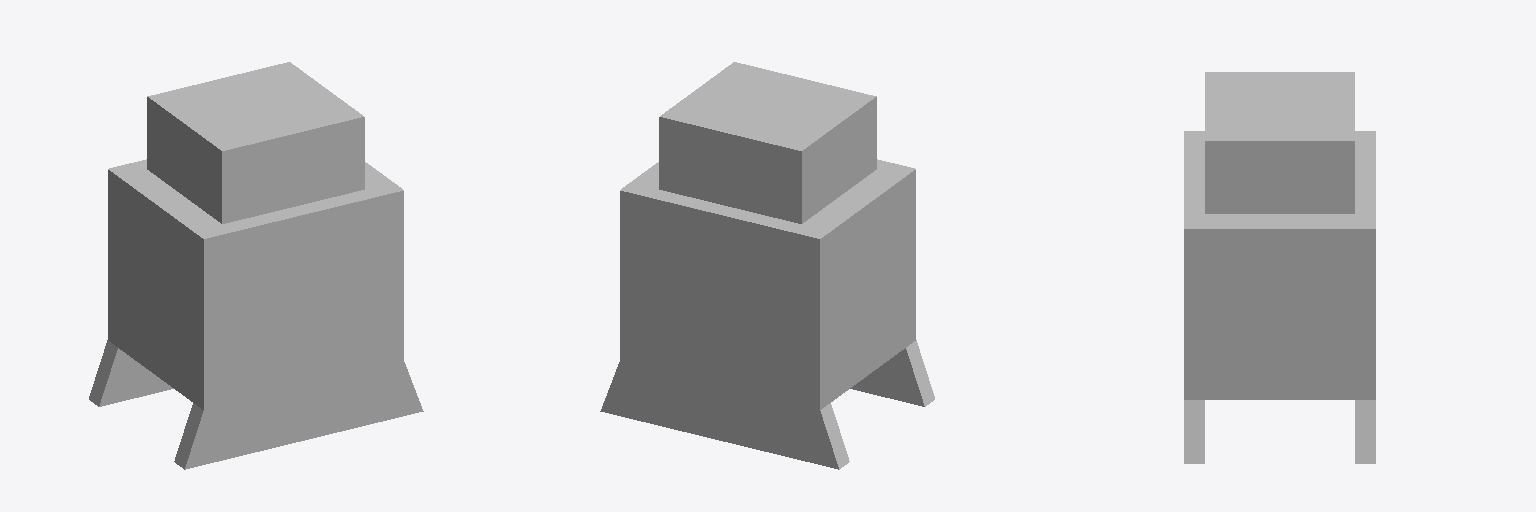
The model's file is stand-collider.obj.
The picture shows the model from 3 angles: view 1: azimuth 30°, elevation 25°; view 2: azimuth 150°, elevation 25°; view 3: azimuth 270°, elevation 25°; orthographic projection.
Visible parts, largest first — view 1: Stand_Collider; view 2: Stand_Collider; view 3: Stand_Collider.
Part boxes in pixels (left/top/right/bottom): Stand_Collider: left=89, top=62, right=423, bottom=469; Stand_Collider: left=600, top=62, right=934, bottom=469; Stand_Collider: left=1184, top=72, right=1375, bottom=463.
Size of the model in its own units: 5.39 by 6.44 by 3.76.